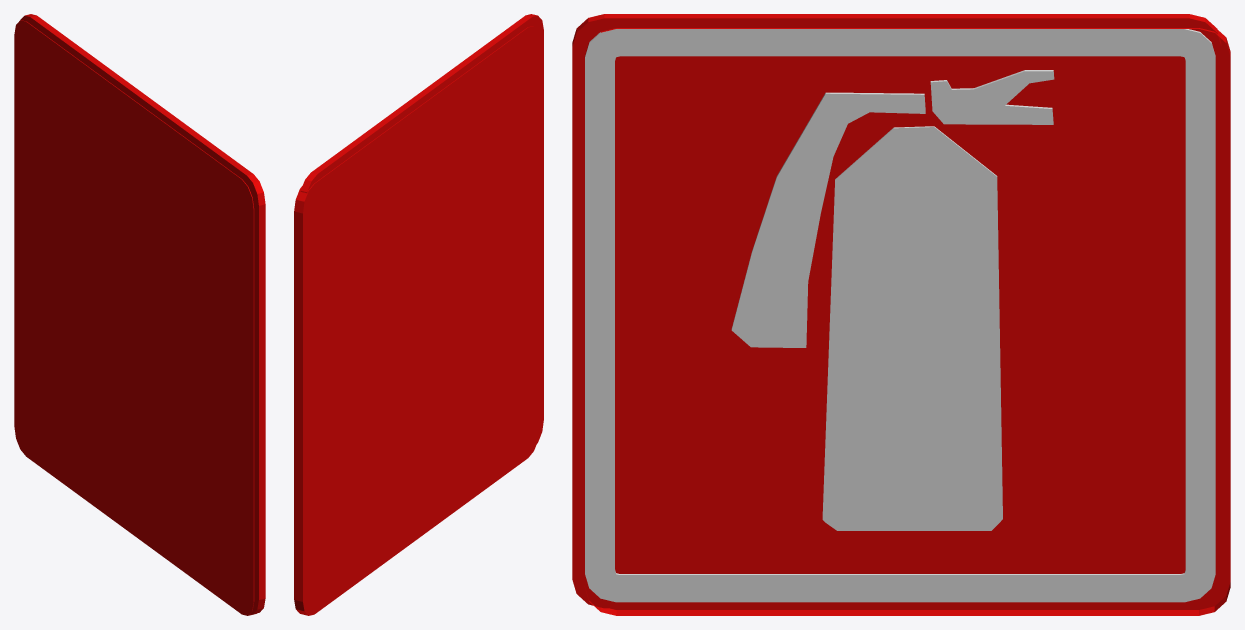
Rendered from MESH_Folgorazione_CartelloEstintore.fbx.
3 renders of one model, left to right at view 1: azimuth 30°, elevation 25°; view 2: azimuth 150°, elevation 25°; view 3: azimuth 270°, elevation 25°, orthographic. The views are drawn at different scales.
Parts seen in each view (by area): view 1: Cube; view 2: Cube; view 3: Cube, BezierCurve.002.
Part boxes in pixels (<box>): Cube: <box>14,14,265,615</box>; Cube: <box>294,14,543,615</box>; Cube: <box>572,14,1230,615</box>; BezierCurve.002: <box>585,29,1215,602</box>.
Size of the model in its own units: 0.1488 by 6.85 by 6.85.
